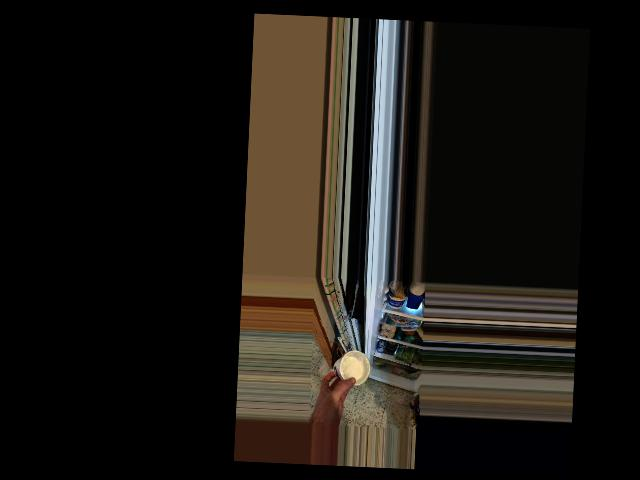cotage: (328, 348, 368, 384)
